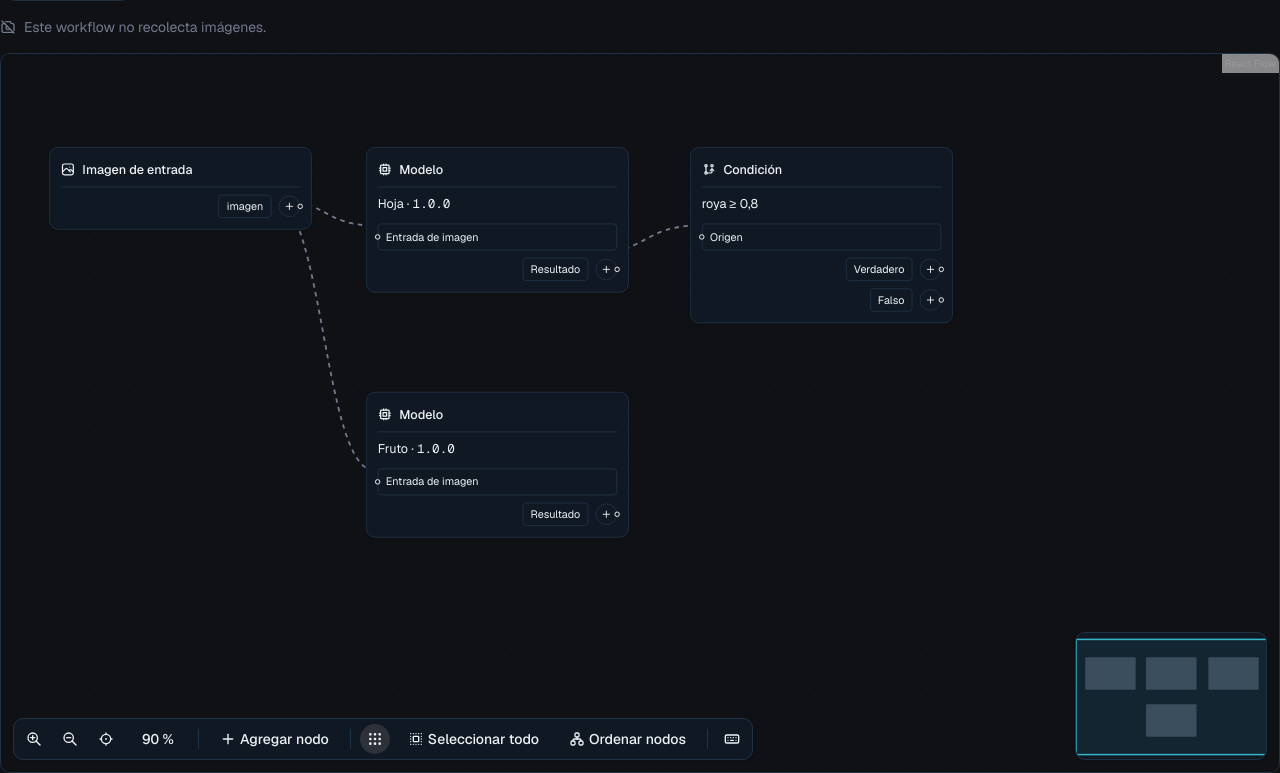
it: US-132: deleting several nodes at once › says nothing about dependents when no other node depends on the selection
(page scrolled)
Expected: the element with test id "workflow-node-model-b" is shown, [366, 392, 629, 538]
Click the button "Seleccionar todo": (473, 739) [395, 723, 552, 755]
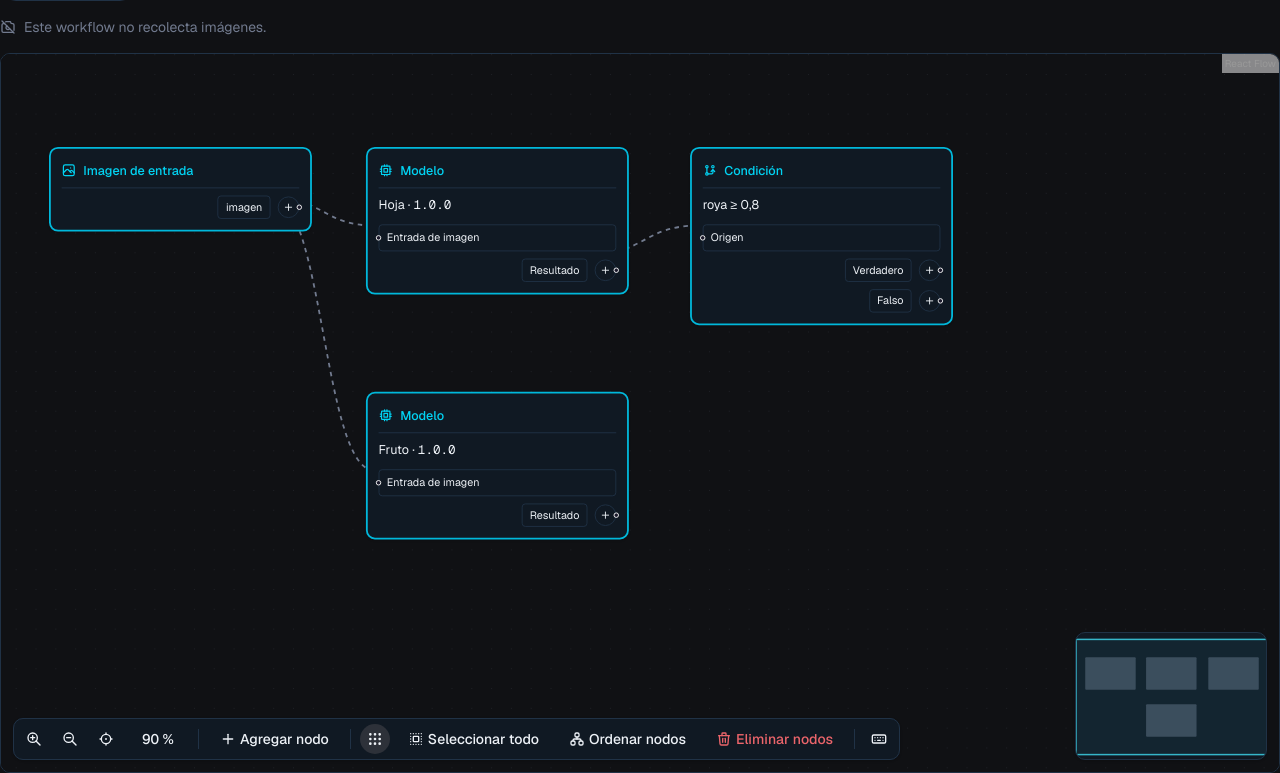
Click the button named "Condición roya ≥ 0,8": (822, 170) [703, 161, 940, 179]
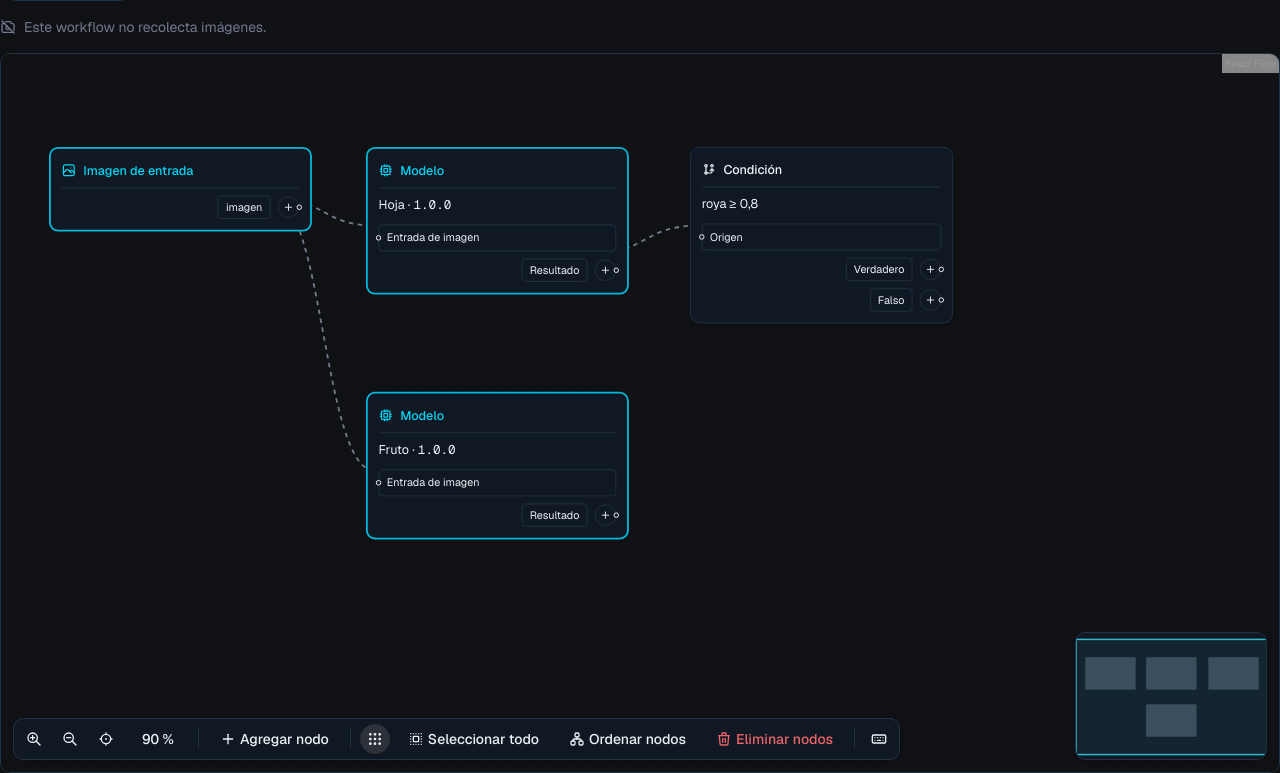
Click the 1st button "Modelo": (497, 170) [378, 161, 616, 179]
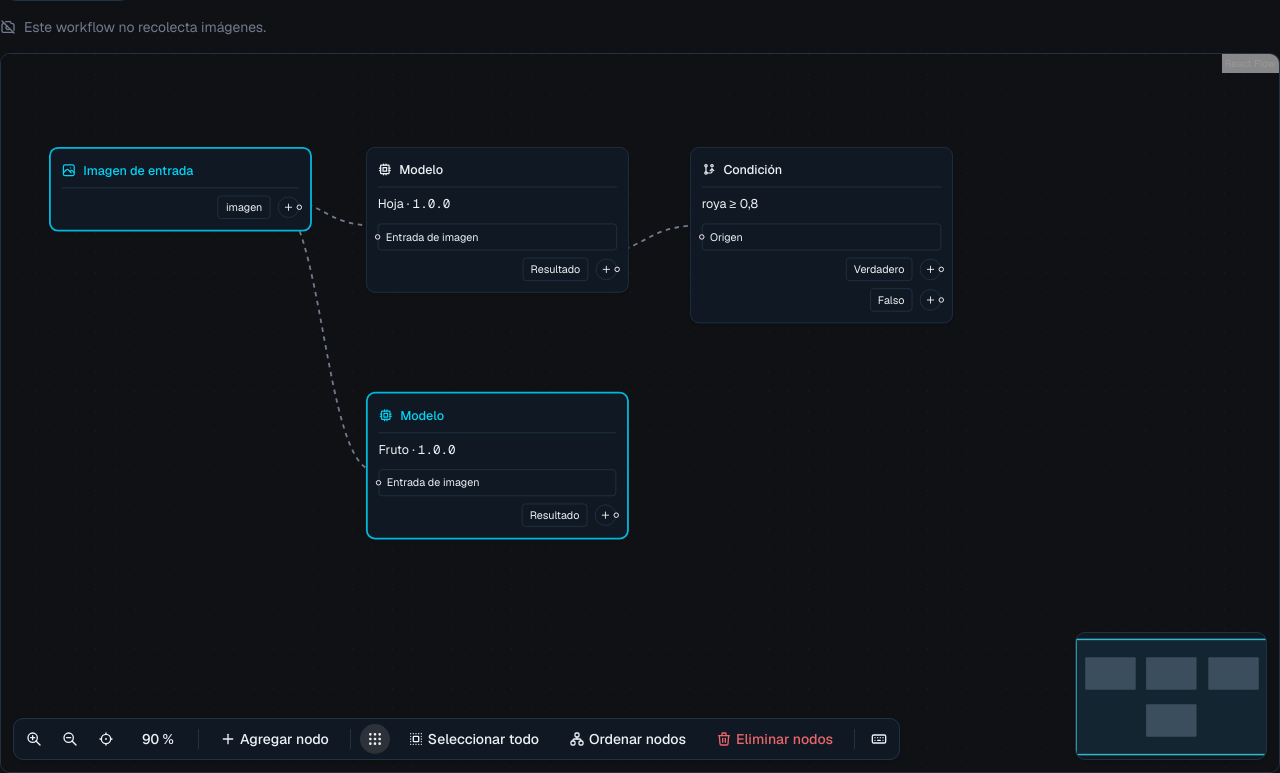
Press Delete in the element named "Lienzo del workflow"
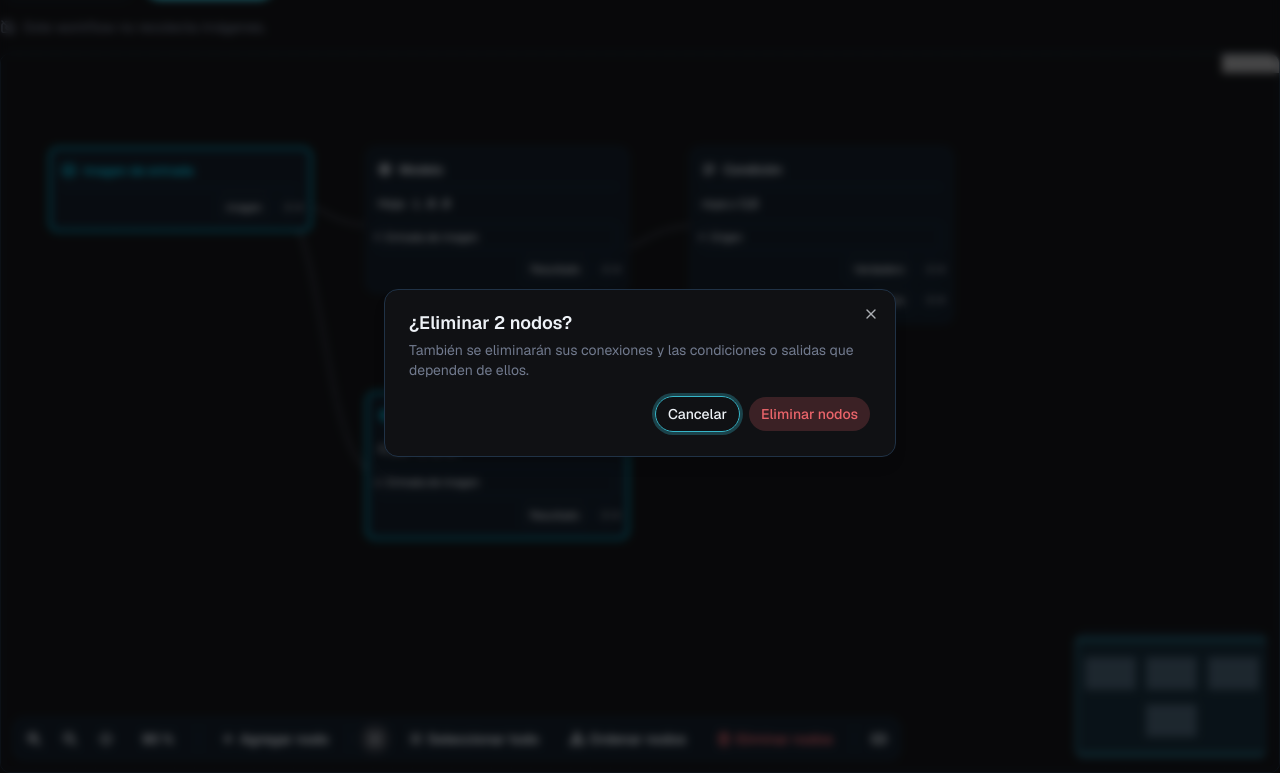
Now the heading "¿Eliminar 2 nodos?" is shown, box [409, 311, 572, 334]
